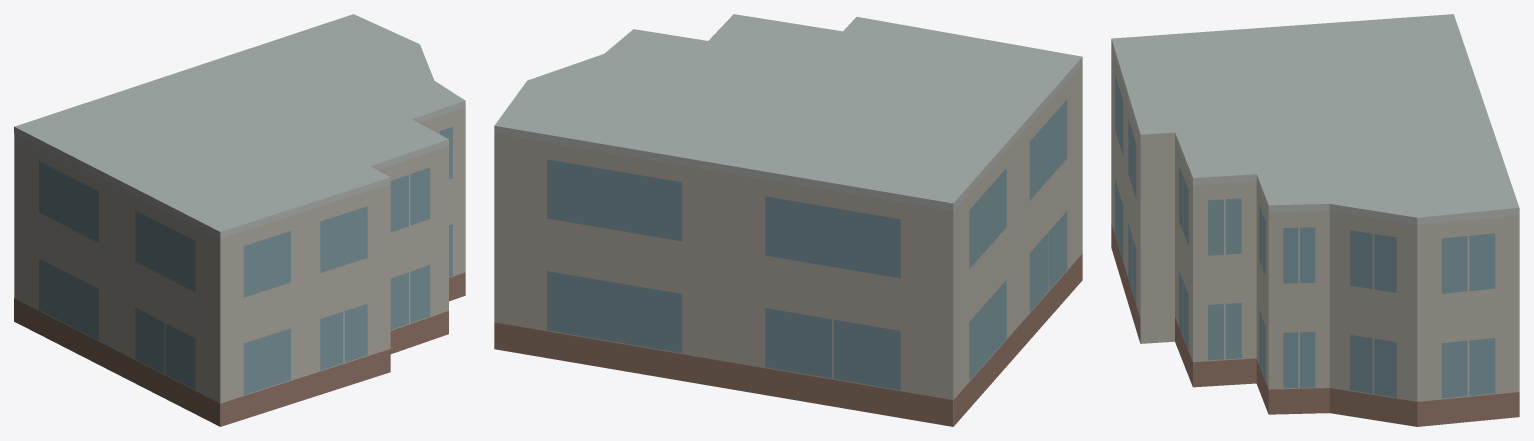
Rendered from survey-upis-32898605.glb.
3 views of the same model, side by side, from view 1: azimuth 30°, elevation 25°; view 2: azimuth 150°, elevation 25°; view 3: azimuth 270°, elevation 25° (orthographic). The views are drawn at different scales.
Visible parts, largest first — view 1: survey-upis-32898605.tmp; view 2: survey-upis-32898605.tmp; view 3: survey-upis-32898605.tmp.
Boxes of the visible parts, x1,y1,x2,y2 form: survey-upis-32898605.tmp: (14, 14, 465, 426); survey-upis-32898605.tmp: (494, 14, 1082, 426); survey-upis-32898605.tmp: (1111, 14, 1519, 426).
Size of the model in its own units: 14.83 by 7.1 by 12.56.
